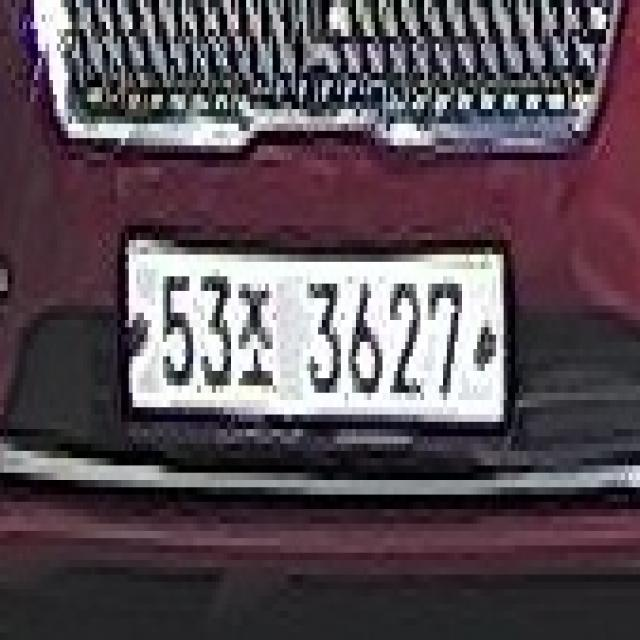2: (386, 269, 428, 400)
3: (193, 262, 235, 393), (303, 269, 341, 393)
5: (148, 262, 197, 407)
6: (345, 262, 386, 407)
7: (420, 262, 470, 407)
jo: (223, 284, 288, 407)
license_plate: (117, 218, 515, 436)
